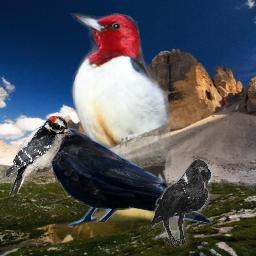Crow: (33, 128, 213, 228), (151, 159, 212, 248)
Woodpecker: (67, 13, 174, 227), (5, 116, 77, 198)
